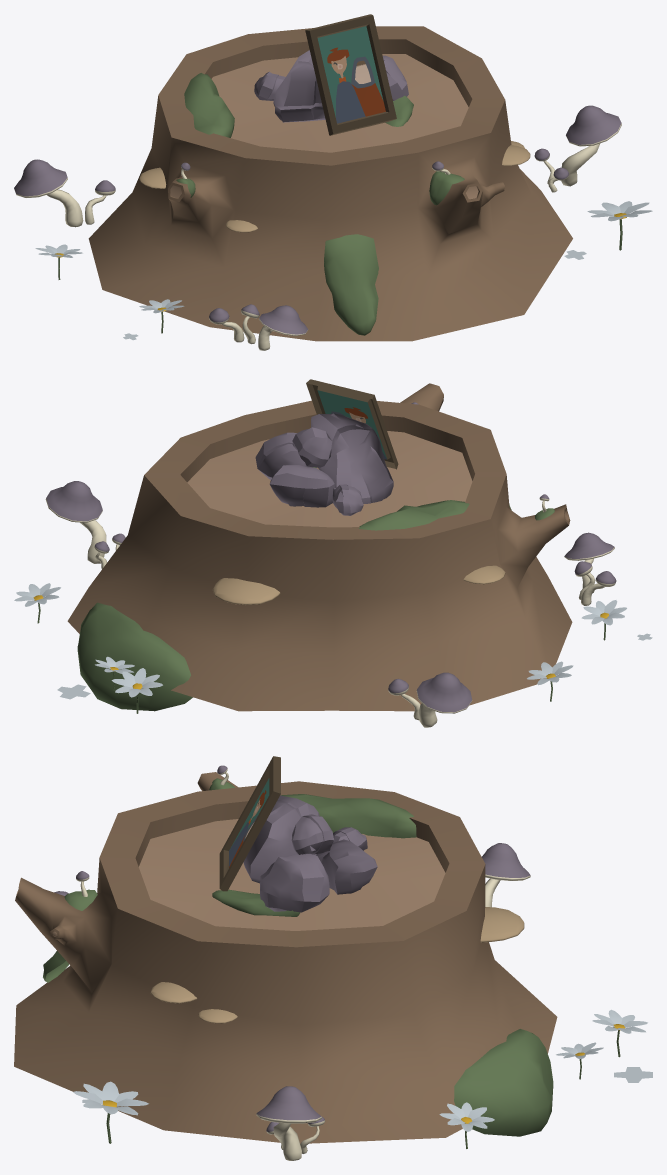
File: P_stump_painting_02.fbx
3 renders of one model, top to bottom at view 1: azimuth 30°, elevation 25°; view 2: azimuth 150°, elevation 25°; view 3: azimuth 270°, elevation 25°, orthographic. The views are drawn at different scales.
Visible parts, largest first — view 1: lod1; view 2: lod1; view 3: lod1.
Part boxes in pixels (<box>): lod1: <box>14,14,652,350</box>; lod1: <box>14,379,652,727</box>; lod1: <box>14,756,652,1160</box>.
Size of what is drawn, in the model's own units: 2.97 by 1.32 by 2.64.
Materials: 1 (1 with a texture image).
